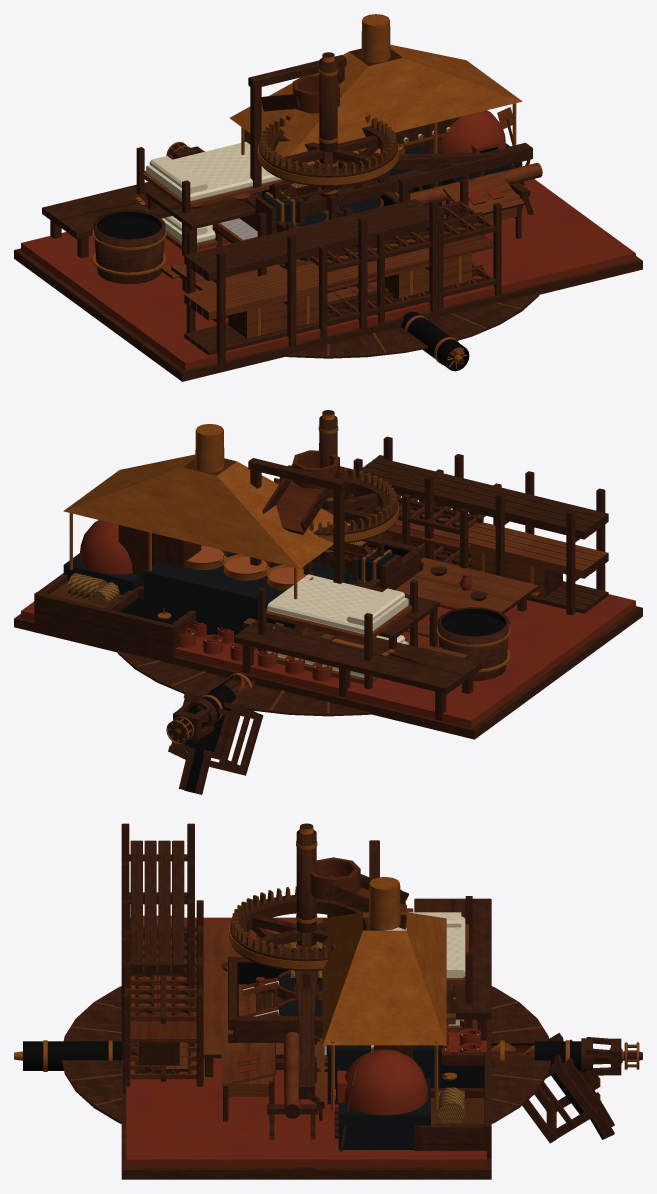
File: ark_wave_b1_machines_rooms_kit.glb
3 renders of one model, top to bottom at view 1: azimuth 30°, elevation 25°; view 2: azimuth 150°, elevation 25°; view 3: azimuth 270°, elevation 25°, orthographic. The views are drawn at different scales.
Visible parts, largest first — view 1: ark_galley_stove_set_LOD0, ark_workshop_set_LOD0, ark_goepel_rotor_crown_LOD0, ark_refectory_quarters_set_LOD0, ark_svalbard_vault_set_LOD0, ark_goepel_base_bearing_LOD0, ark_paternoster_frame_trough_LOD0, ark_archimedes_screw_tube_LOD0, ark_mill_table_base_LOD0; view 2: ark_galley_stove_set_LOD0, ark_workshop_set_LOD0, ark_refectory_quarters_set_LOD0, ark_paternoster_frame_trough_LOD0, ark_goepel_rotor_crown_LOD0, ark_svalbard_vault_set_LOD0, ark_archimedes_screw_tube_LOD0, ark_goepel_base_bearing_LOD0, ark_archimedes_screw_helix_LOD0, ark_mill_table_base_LOD0; view 3: ark_galley_stove_set_LOD0, ark_workshop_set_LOD0, ark_goepel_rotor_crown_LOD0, ark_refectory_quarters_set_LOD0, ark_goepel_base_bearing_LOD0, ark_svalbard_vault_set_LOD0, ark_archimedes_screw_tube_LOD0, ark_paternoster_frame_trough_LOD0, ark_mill_table_base_LOD0, ark_archimedes_screw_helix_LOD0.
Boxes of the visible parts, box(x1,y1,x2,y2) form: ark_galley_stove_set_LOD0: box(14, 14, 642, 381); ark_workshop_set_LOD0: box(42, 163, 542, 372); ark_goepel_rotor_crown_LOD0: box(255, 52, 532, 234); ark_refectory_quarters_set_LOD0: box(136, 117, 524, 318); ark_svalbard_vault_set_LOD0: box(212, 178, 501, 338); ark_goepel_base_bearing_LOD0: box(285, 293, 539, 358); ark_paternoster_frame_trough_LOD0: box(239, 55, 399, 260); ark_archimedes_screw_tube_LOD0: box(173, 146, 469, 371); ark_mill_table_base_LOD0: box(271, 165, 385, 228); ark_galley_stove_set_LOD0: box(14, 424, 642, 739); ark_workshop_set_LOD0: box(34, 436, 608, 720); ark_refectory_quarters_set_LOD0: box(118, 525, 540, 689); ark_paternoster_frame_trough_LOD0: box(248, 450, 423, 589); ark_goepel_rotor_crown_LOD0: box(274, 410, 401, 589); ark_svalbard_vault_set_LOD0: box(178, 443, 501, 681); ark_archimedes_screw_tube_LOD0: box(168, 545, 419, 794); ark_goepel_base_bearing_LOD0: box(117, 553, 469, 716); ark_archimedes_screw_helix_LOD0: box(166, 673, 247, 744); ark_mill_table_base_LOD0: box(327, 537, 385, 585); ark_galley_stove_set_LOD0: box(121, 877, 491, 1179); ark_workshop_set_LOD0: box(121, 823, 491, 1159); ark_goepel_rotor_crown_LOD0: box(229, 823, 383, 1121); ark_refectory_quarters_set_LOD0: box(166, 896, 472, 1121); ark_goepel_base_bearing_LOD0: box(62, 986, 550, 1123); ark_svalbard_vault_set_LOD0: box(123, 900, 480, 1094); ark_archimedes_screw_tube_LOD0: box(23, 1033, 622, 1143); ark_paternoster_frame_trough_LOD0: box(227, 840, 408, 1069); ark_mill_table_base_LOD0: box(242, 941, 322, 1016); ark_archimedes_screw_helix_LOD0: box(14, 1042, 642, 1069).
Size of what is drawn, in the model's own units: 9.1 by 5.32 by 9.8.
1 material, 1 textured.
